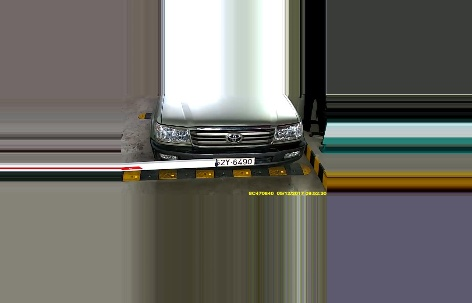plate: (211, 155, 256, 170)
